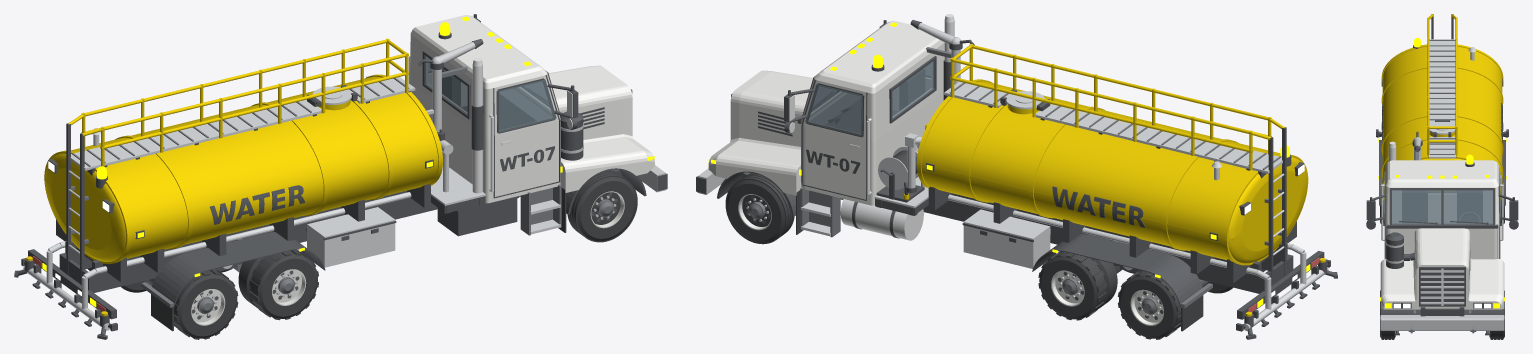
Rendered from water-truck-4000gal.glb.
The picture shows the model from 3 angles, left to right: view 1: azimuth 30°, elevation 25°; view 2: azimuth 150°, elevation 25°; view 3: azimuth 270°, elevation 25°; orthographic projection. The views are drawn at different scales.
Visible parts, largest first — view 1: tank, tie_rod, hood, step_treads, tyres, wheel_hubs, windscreen, wheel_rims, grille_bars, wheel_nuts, front_indicators; view 2: tank, hood, tie_rod, step_treads, tyres, wheel_hubs, windscreen, grille_bars, wheel_rims, wheel_nuts, front_indicators; view 3: hood, tank, tie_rod, windscreen, step_treads, wheel_nuts, grille_bars, wheel_hubs, tyres, front_indicators, headlamps.
Part boxes in pixels (x1,y1,x2,y2): tank: (26, 38, 442, 315); tie_rod: (14, 14, 667, 339); hood: (409, 15, 654, 203); step_treads: (23, 69, 560, 330); tyres: (88, 170, 637, 339); wheel_hubs: (71, 66, 621, 314); windscreen: (424, 55, 556, 132); wheel_rims: (191, 191, 624, 325); grille_bars: (408, 56, 572, 193); wheel_nuts: (194, 42, 666, 317); front_indicators: (42, 16, 654, 307); tank: (904, 44, 1325, 316); hood: (708, 20, 944, 205); tie_rod: (696, 20, 1337, 339); step_treads: (801, 49, 1328, 330); tyres: (725, 150, 1265, 339); wheel_hubs: (741, 47, 1281, 314); windscreen: (805, 60, 934, 136); grille_bars: (789, 14, 954, 240); wheel_rims: (738, 194, 1163, 325); wheel_nuts: (697, 23, 1161, 317); front_indicators: (708, 22, 1310, 307); hood: (1380, 160, 1504, 309); tank: (1381, 14, 1503, 200); tie_rod: (1366, 14, 1518, 335); windscreen: (1384, 171, 1500, 224); step_treads: (1414, 39, 1501, 184); wheel_nuts: (1380, 137, 1504, 330); grille_bars: (1381, 141, 1503, 305); wheel_hubs: (1387, 40, 1497, 333); tyres: (1380, 205, 1504, 339); front_indicators: (1378, 38, 1506, 308); headlamps: (1393, 303, 1491, 308).
Bounding box in the file's own units: 9.73 × 3.39 × 3.05.
